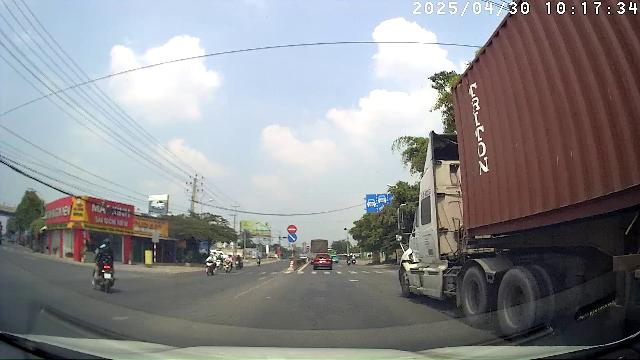102-cam-di-nguoc-chieu: (287, 224, 297, 233)
302a-huong-phai-di-vong-chuong-ngai-vat-1: (287, 233, 297, 242)
